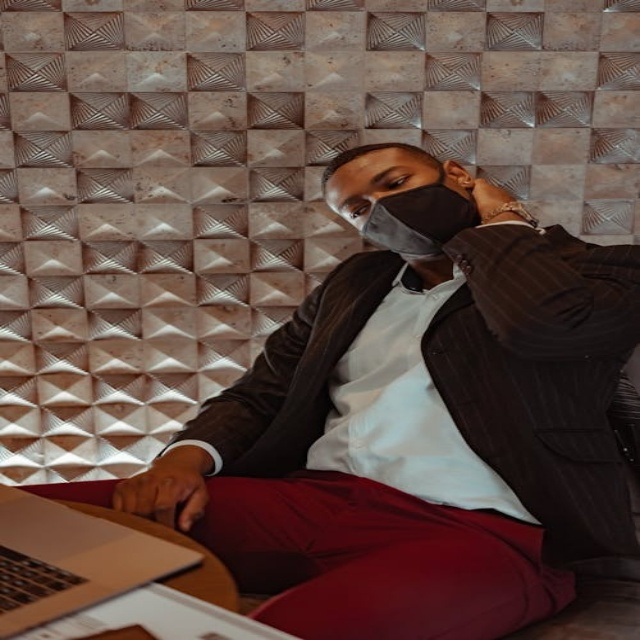Mascara: (359, 182, 476, 260)
Sin_gafas: (338, 165, 417, 222)
Sin_guantes: (108, 459, 215, 537)
